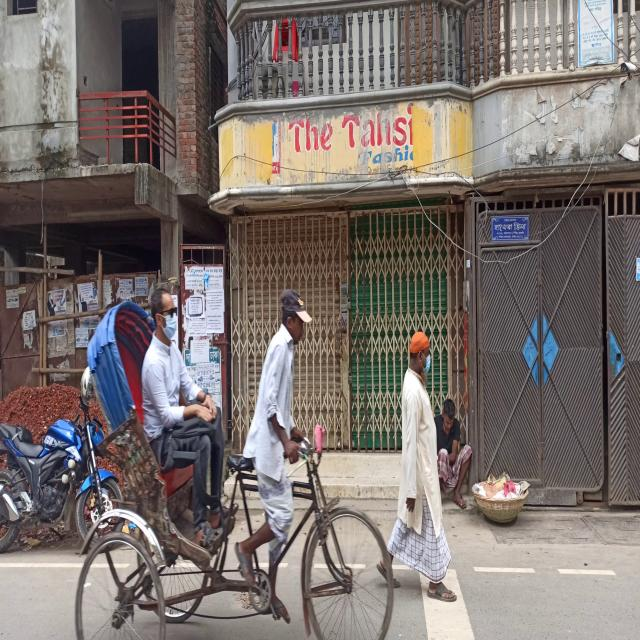bike: (2, 379, 115, 526)
rickshaw: (70, 290, 396, 627)
